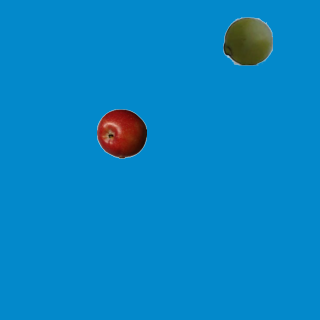Apple Braeburn: (96, 108, 146, 158)
Grape White 4: (222, 15, 272, 65)
